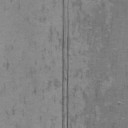surface scratch: (61, 0, 70, 128)
